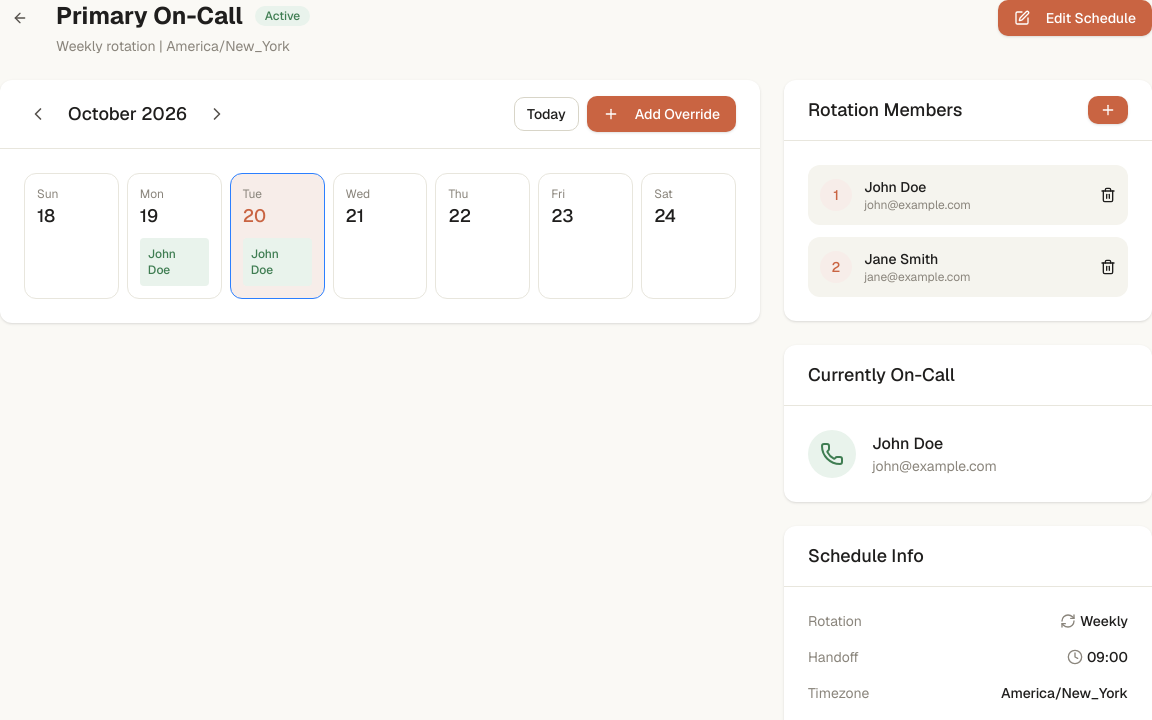
it: ScheduleEditorPage › editing schedule › should enter edit mode when Edit Schedule button is clicked
The width and height of the screenshot is (1152, 720).
Expected: the heading "Primary On-Call" is shown, [56,0,243,32]
Click the button "Edit Schedule". click: point(1075, 18)
box: [998,0,1151,36]
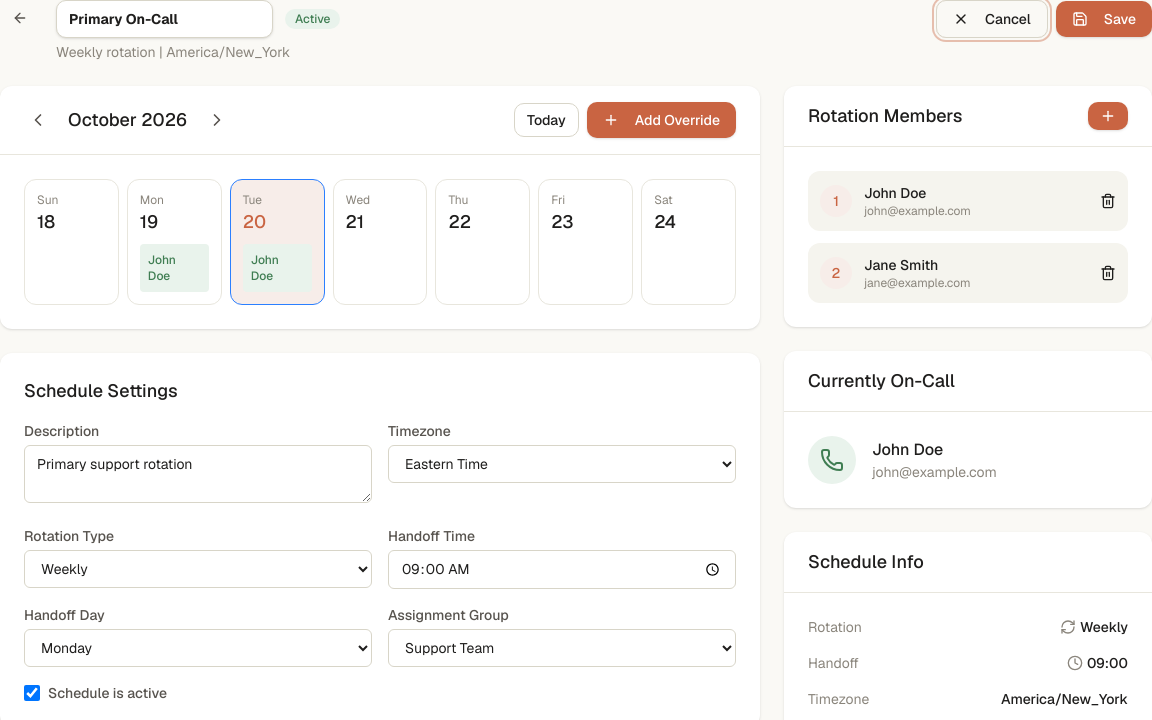
Expected: the heading "Schedule Settings" is shown, [24,379,178,402]
Expected: the button "Cancel" is shown, [936,0,1048,38]
Expected: the button "Save" is shown, [1056,1,1151,37]
